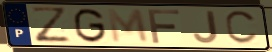C: (224, 9, 260, 46)
F: (146, 8, 182, 45)
G: (73, 7, 109, 44)
J: (192, 10, 221, 45)
M: (106, 8, 152, 45)
Z: (29, 5, 74, 44)
